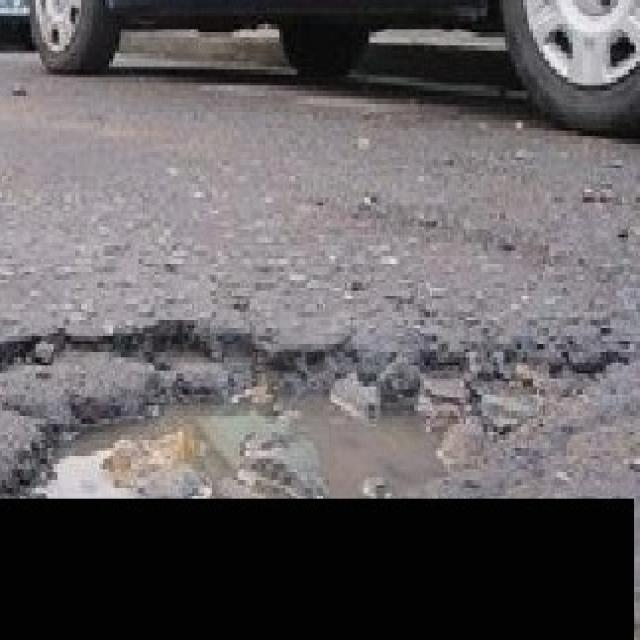road-pothole: (2, 316, 638, 502)
